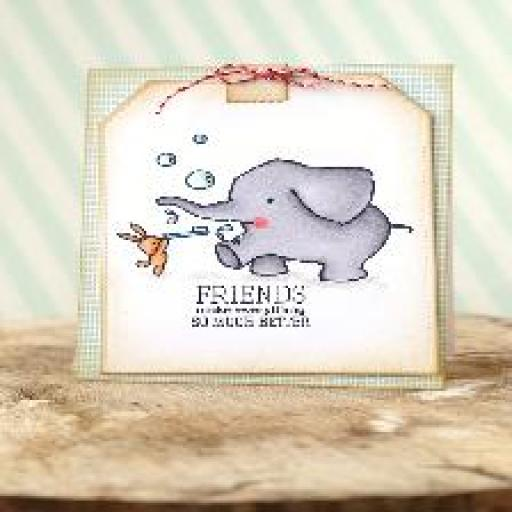Elephant: (153, 156, 412, 281)
